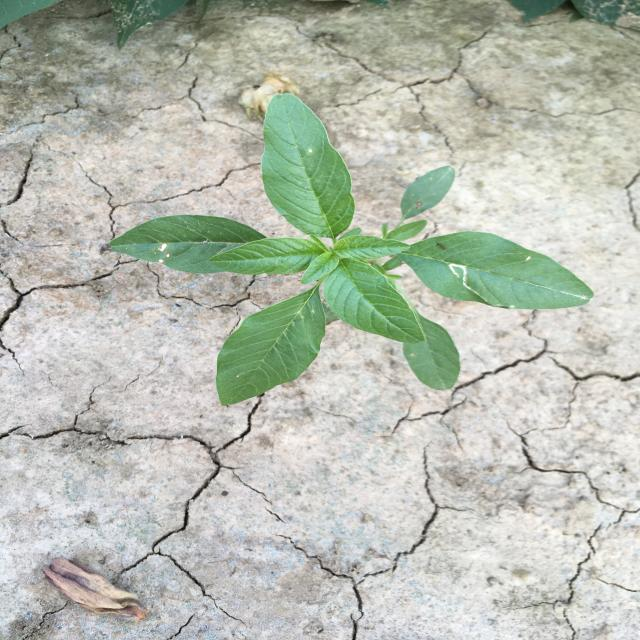Waterhemp: (104, 90, 597, 408)
